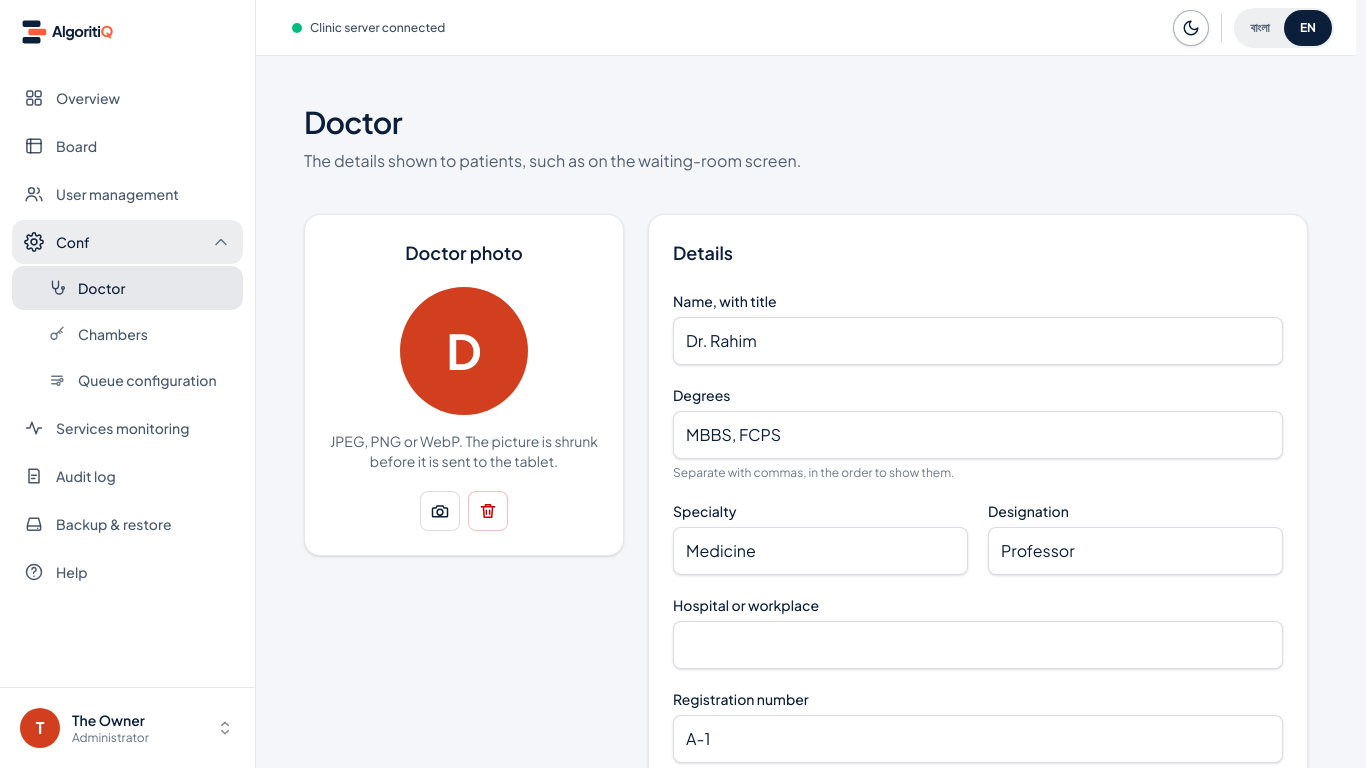
Test: doctor page › should upload and remove the photo through the same card as Settings
This screenshot has width=1366, height=768.
Expected: the field labelled "Name, with title" is shown, [673,317,1283,365]
What coordinates should you click on to do the following:
click the button named "Remove photo"
I would click on:
 (488, 511)
Its box is [468,491,508,531].
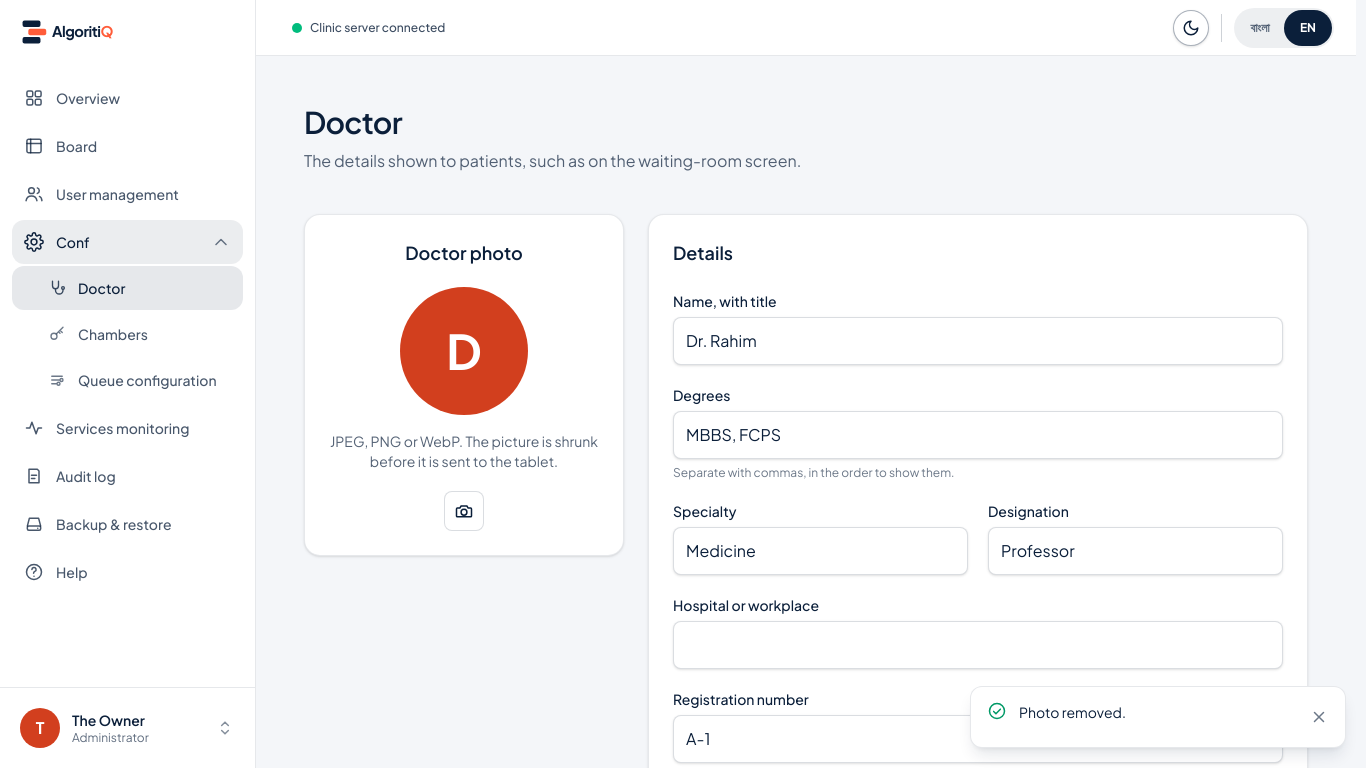
Expected: the heading "Doctor photo" is shown, [405,241,523,264]
Result: the text "Photo removed." is shown at [1019,703,1126,721]
